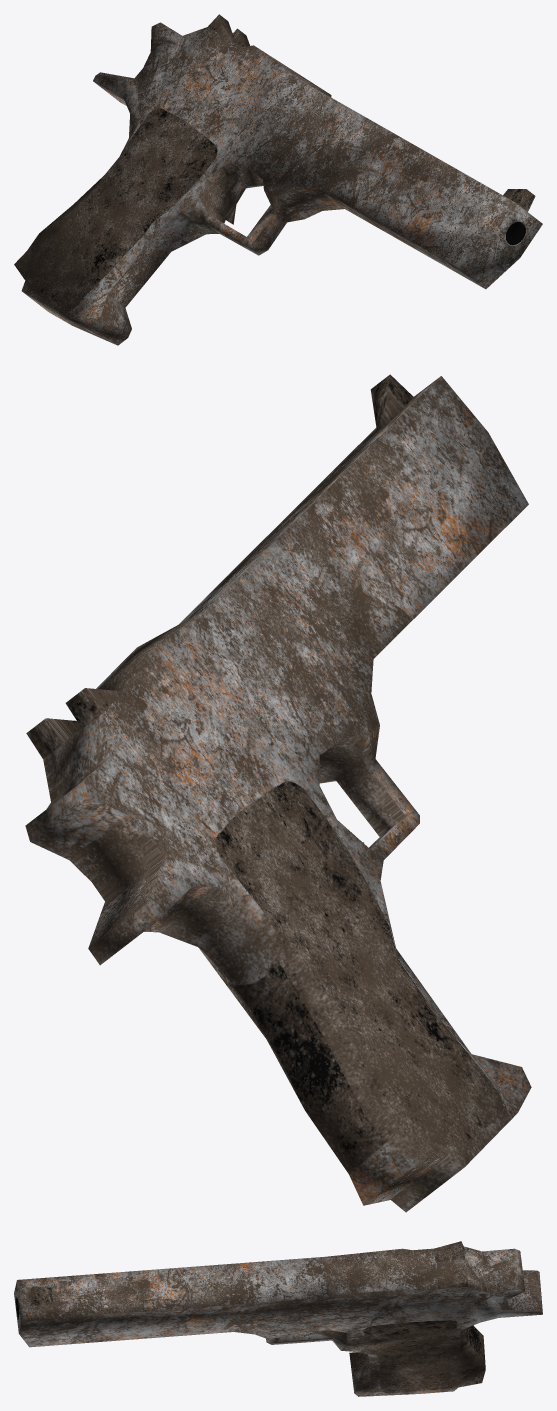
The model's file is Anim_disparar_pistola_objetos.0026.obj.
The picture shows the model from 3 angles, top to bottom: view 1: azimuth 30°, elevation 25°; view 2: azimuth 150°, elevation 25°; view 3: azimuth 270°, elevation 25°; orthographic projection. The views are drawn at different scales.
Visible parts, largest first — view 1: Pistola1; view 2: Pistola1; view 3: Pistola1.
Part boxes in pixels (x1=…): Pistola1: x1=14, y1=14, x2=542, y2=345; Pistola1: x1=25, y1=374, x2=531, y2=1212; Pistola1: x1=14, y1=1241, x2=542, y2=1396.
Size of the model in its own units: 0.9384 by 0.8004 by 1.69.
1 material, 1 textured.
